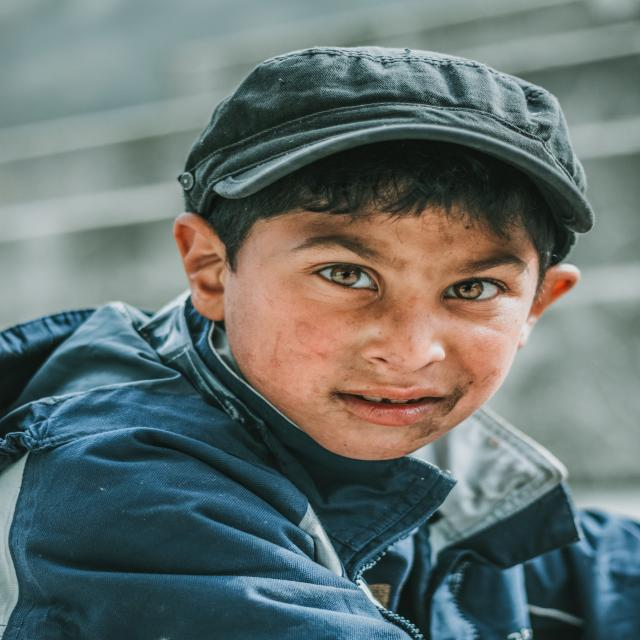child: (3, 41, 640, 640)
